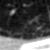node: (8, 7, 17, 17)
